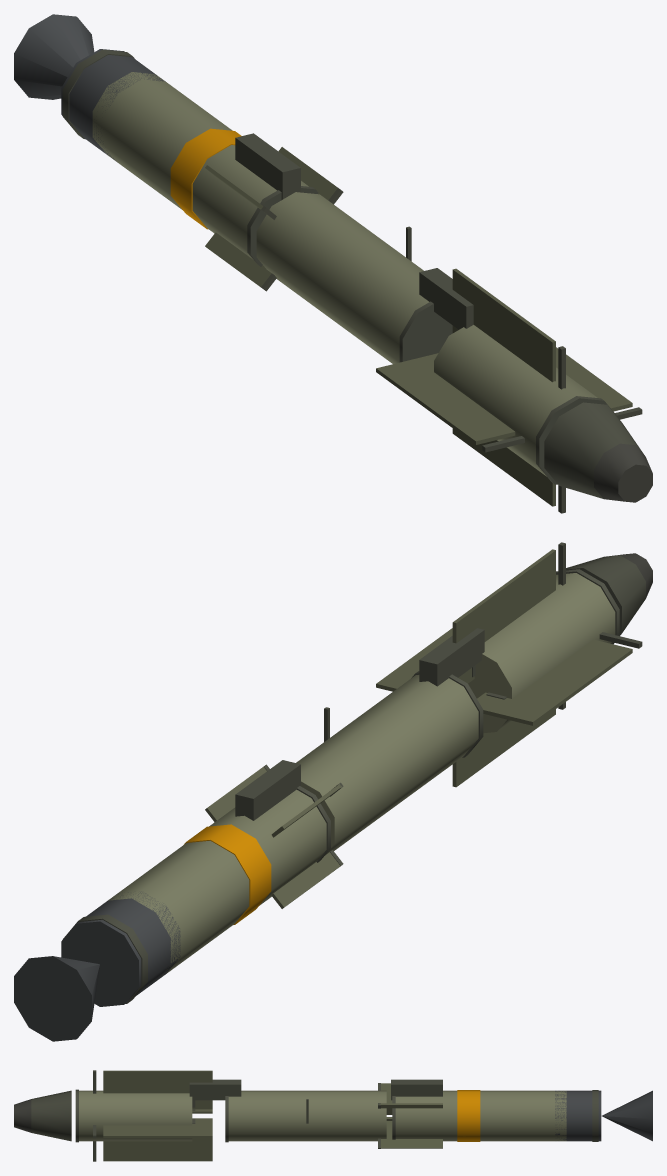
Rendered from guided_missile.glb.
3 renders of one model, top to bottom at view 1: azimuth 30°, elevation 25°; view 2: azimuth 150°, elevation 25°; view 3: azimuth 270°, elevation 25°, orthographic. The views are drawn at different scales.
Parts seen in each view (by area): view 1: Body_MidSection, Body_FwdSection, Body_AftSection, Body_NozzleTaper, Seeker_DomeCone, RearFin_Panel1, RearFin_Panel0, Seeker_Housing, Body_NozzleThroat, Body_WarheadBand, Body_SuspLugFwd, Body_SeamRing2 (+8 smaller); view 2: Body_MidSection, Body_FwdSection, Body_AftSection, Seeker_Housing, Seeker_DomeCone, RearFin_Panel1, RearFin_Panel0, Body_WarheadBand, Body_NozzleTaper, Body_SuspLugFwd, Body_SuspLugAft, RearFin_Panel2 (+4 smaller); view 3: Body_MidSection, Body_FwdSection, Body_AftSection, RearFin_Panel0, RearFin_Panel2, Seeker_Housing, Body_NozzleTaper, RearFin_Panel3, Seeker_DomeCone, Body_WarheadBand, Body_SuspLugAft, Body_SuspLugFwd (+6 smaller).
Part boxes in pixels (x1,y1,x2,y2): Body_MidSection: (256, 192, 429, 363); Body_FwdSection: (92, 72, 308, 259); Body_AftSection: (434, 325, 597, 476); Body_NozzleTaper: (544, 402, 644, 498); Seeker_DomeCone: (14, 14, 94, 99); RearFin_Panel1: (376, 353, 515, 444); RearFin_Panel0: (452, 268, 555, 382); Seeker_Housing: (61, 49, 165, 161); Body_NozzleThroat: (594, 443, 652, 502); Body_WarheadBand: (170, 128, 241, 229); Body_SuspLugFwd: (235, 133, 300, 199); Body_SeamRing2: (399, 301, 452, 362); Body_MidSection: (296, 675, 478, 855); Body_FwdSection: (108, 789, 326, 975); Body_AftSection: (468, 573, 615, 733); Seeker_Housing: (61, 891, 180, 1006); Seeker_DomeCone: (14, 956, 99, 1041); RearFin_Panel1: (477, 639, 632, 725); RearFin_Panel0: (452, 549, 555, 683); Body_WarheadBand: (184, 824, 271, 924); Body_NozzleTaper: (566, 555, 645, 635); Body_SuspLugFwd: (235, 760, 300, 820); Body_SuspLugAft: (419, 628, 484, 686); RearFin_Panel2: (452, 709, 555, 787); Body_MidSection: (228, 1090, 386, 1141); Body_FwdSection: (395, 1090, 566, 1141); Body_AftSection: (79, 1090, 192, 1141); RearFin_Panel0: (103, 1070, 212, 1109); RearFin_Panel2: (103, 1138, 212, 1161); Seeker_Housing: (555, 1090, 601, 1141); Body_NozzleTaper: (31, 1090, 71, 1141); RearFin_Panel3: (103, 1118, 212, 1137); Seeker_DomeCone: (602, 1090, 652, 1141); Body_WarheadBand: (457, 1090, 480, 1141); Body_SuspLugAft: (189, 1079, 241, 1100); Body_SuspLugFwd: (391, 1079, 442, 1100).
Bounding box in the file's own units: 0.345 × 0.345 × 2.22.
